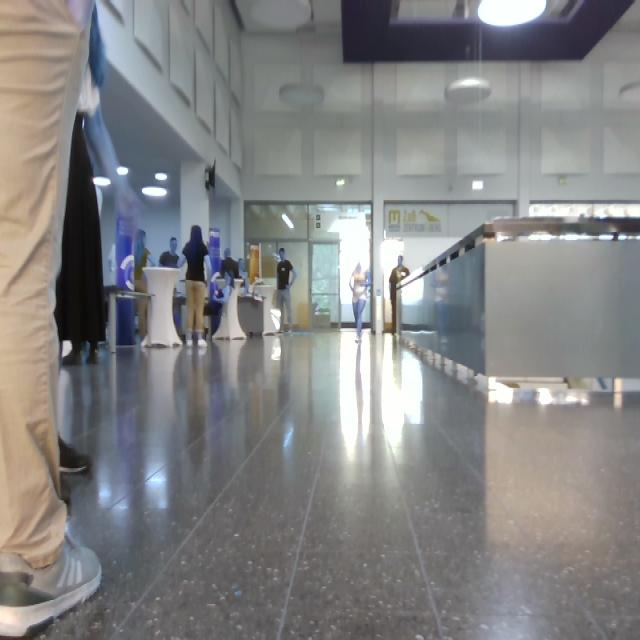banner: (126, 197, 142, 293), (129, 306, 144, 348)
door: (253, 206, 378, 330)
light bulb: (245, 1, 319, 34), (484, 1, 551, 26), (451, 81, 497, 106), (287, 88, 329, 110), (123, 170, 138, 180)
person: (1, 1, 127, 608), (77, 1, 129, 366), (193, 230, 217, 348), (367, 257, 390, 344), (398, 258, 418, 336), (285, 252, 302, 334), (145, 234, 159, 282), (88, 441, 112, 466), (171, 242, 185, 272)
staircase: (402, 221, 640, 405)
table: (154, 270, 190, 350)
tiled floor: (1, 334, 640, 640)
